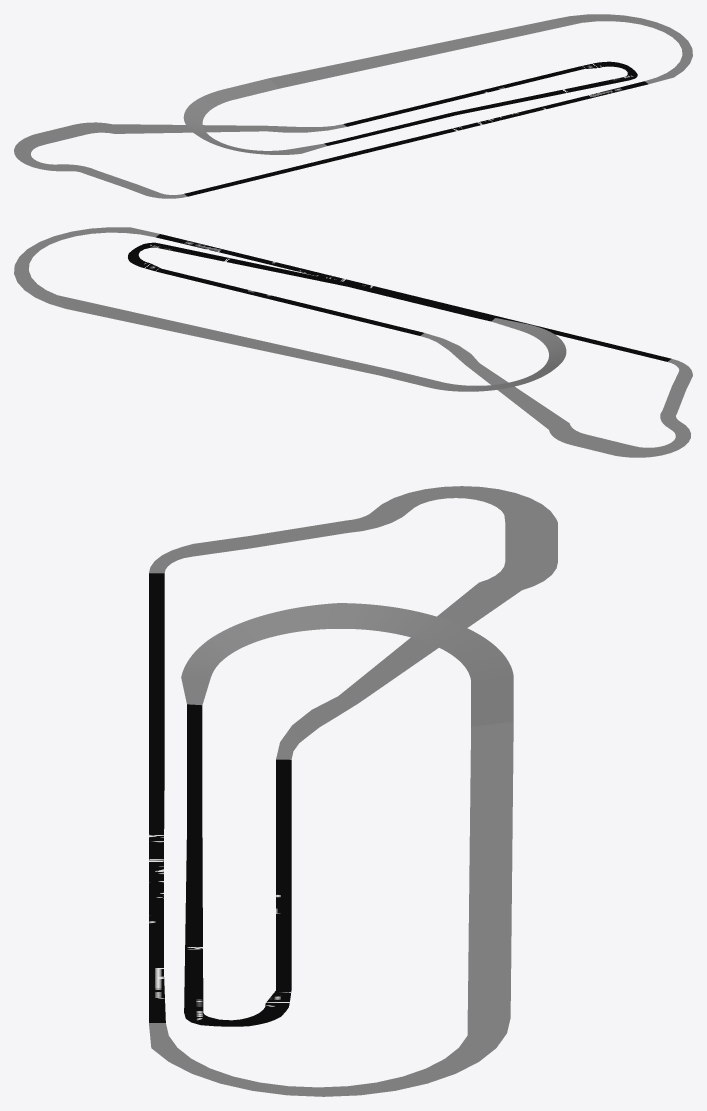
The model's file is mHistoricV3Beta.glb.
3 views of the same model, one above another, from view 1: azimuth 30°, elevation 25°; view 2: azimuth 150°, elevation 25°; view 3: azimuth 270°, elevation 25° (orthographic). The views are drawn at different scales.
Parts seen in each view (by area): view 1: track; view 2: track; view 3: track.
Boxes of the visible parts, x1=… form: track: x1=14, y1=14, x2=692, y2=198; track: x1=14, y1=227, x2=692, y2=457; track: x1=149, y1=486, x2=557, y2=1096.
Size of what is drawn, in the model's own units: 1548 by 30.56 by 438.
Materials: 1 (1 with a texture image).
